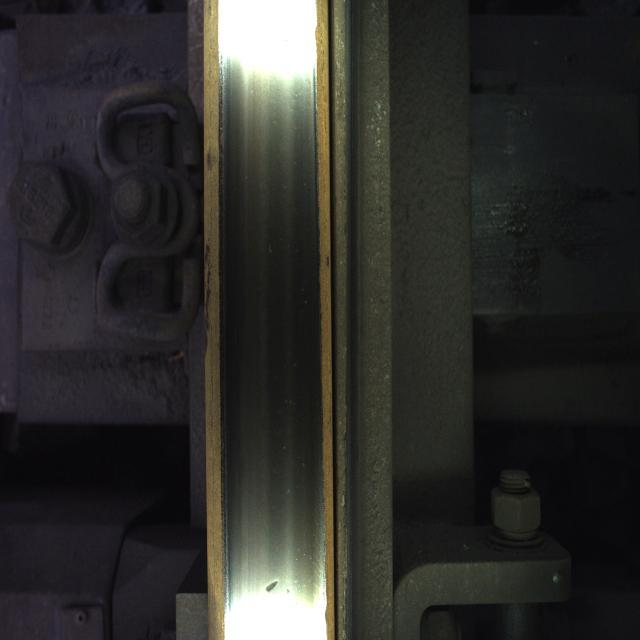crack: (245, 550, 306, 620)
